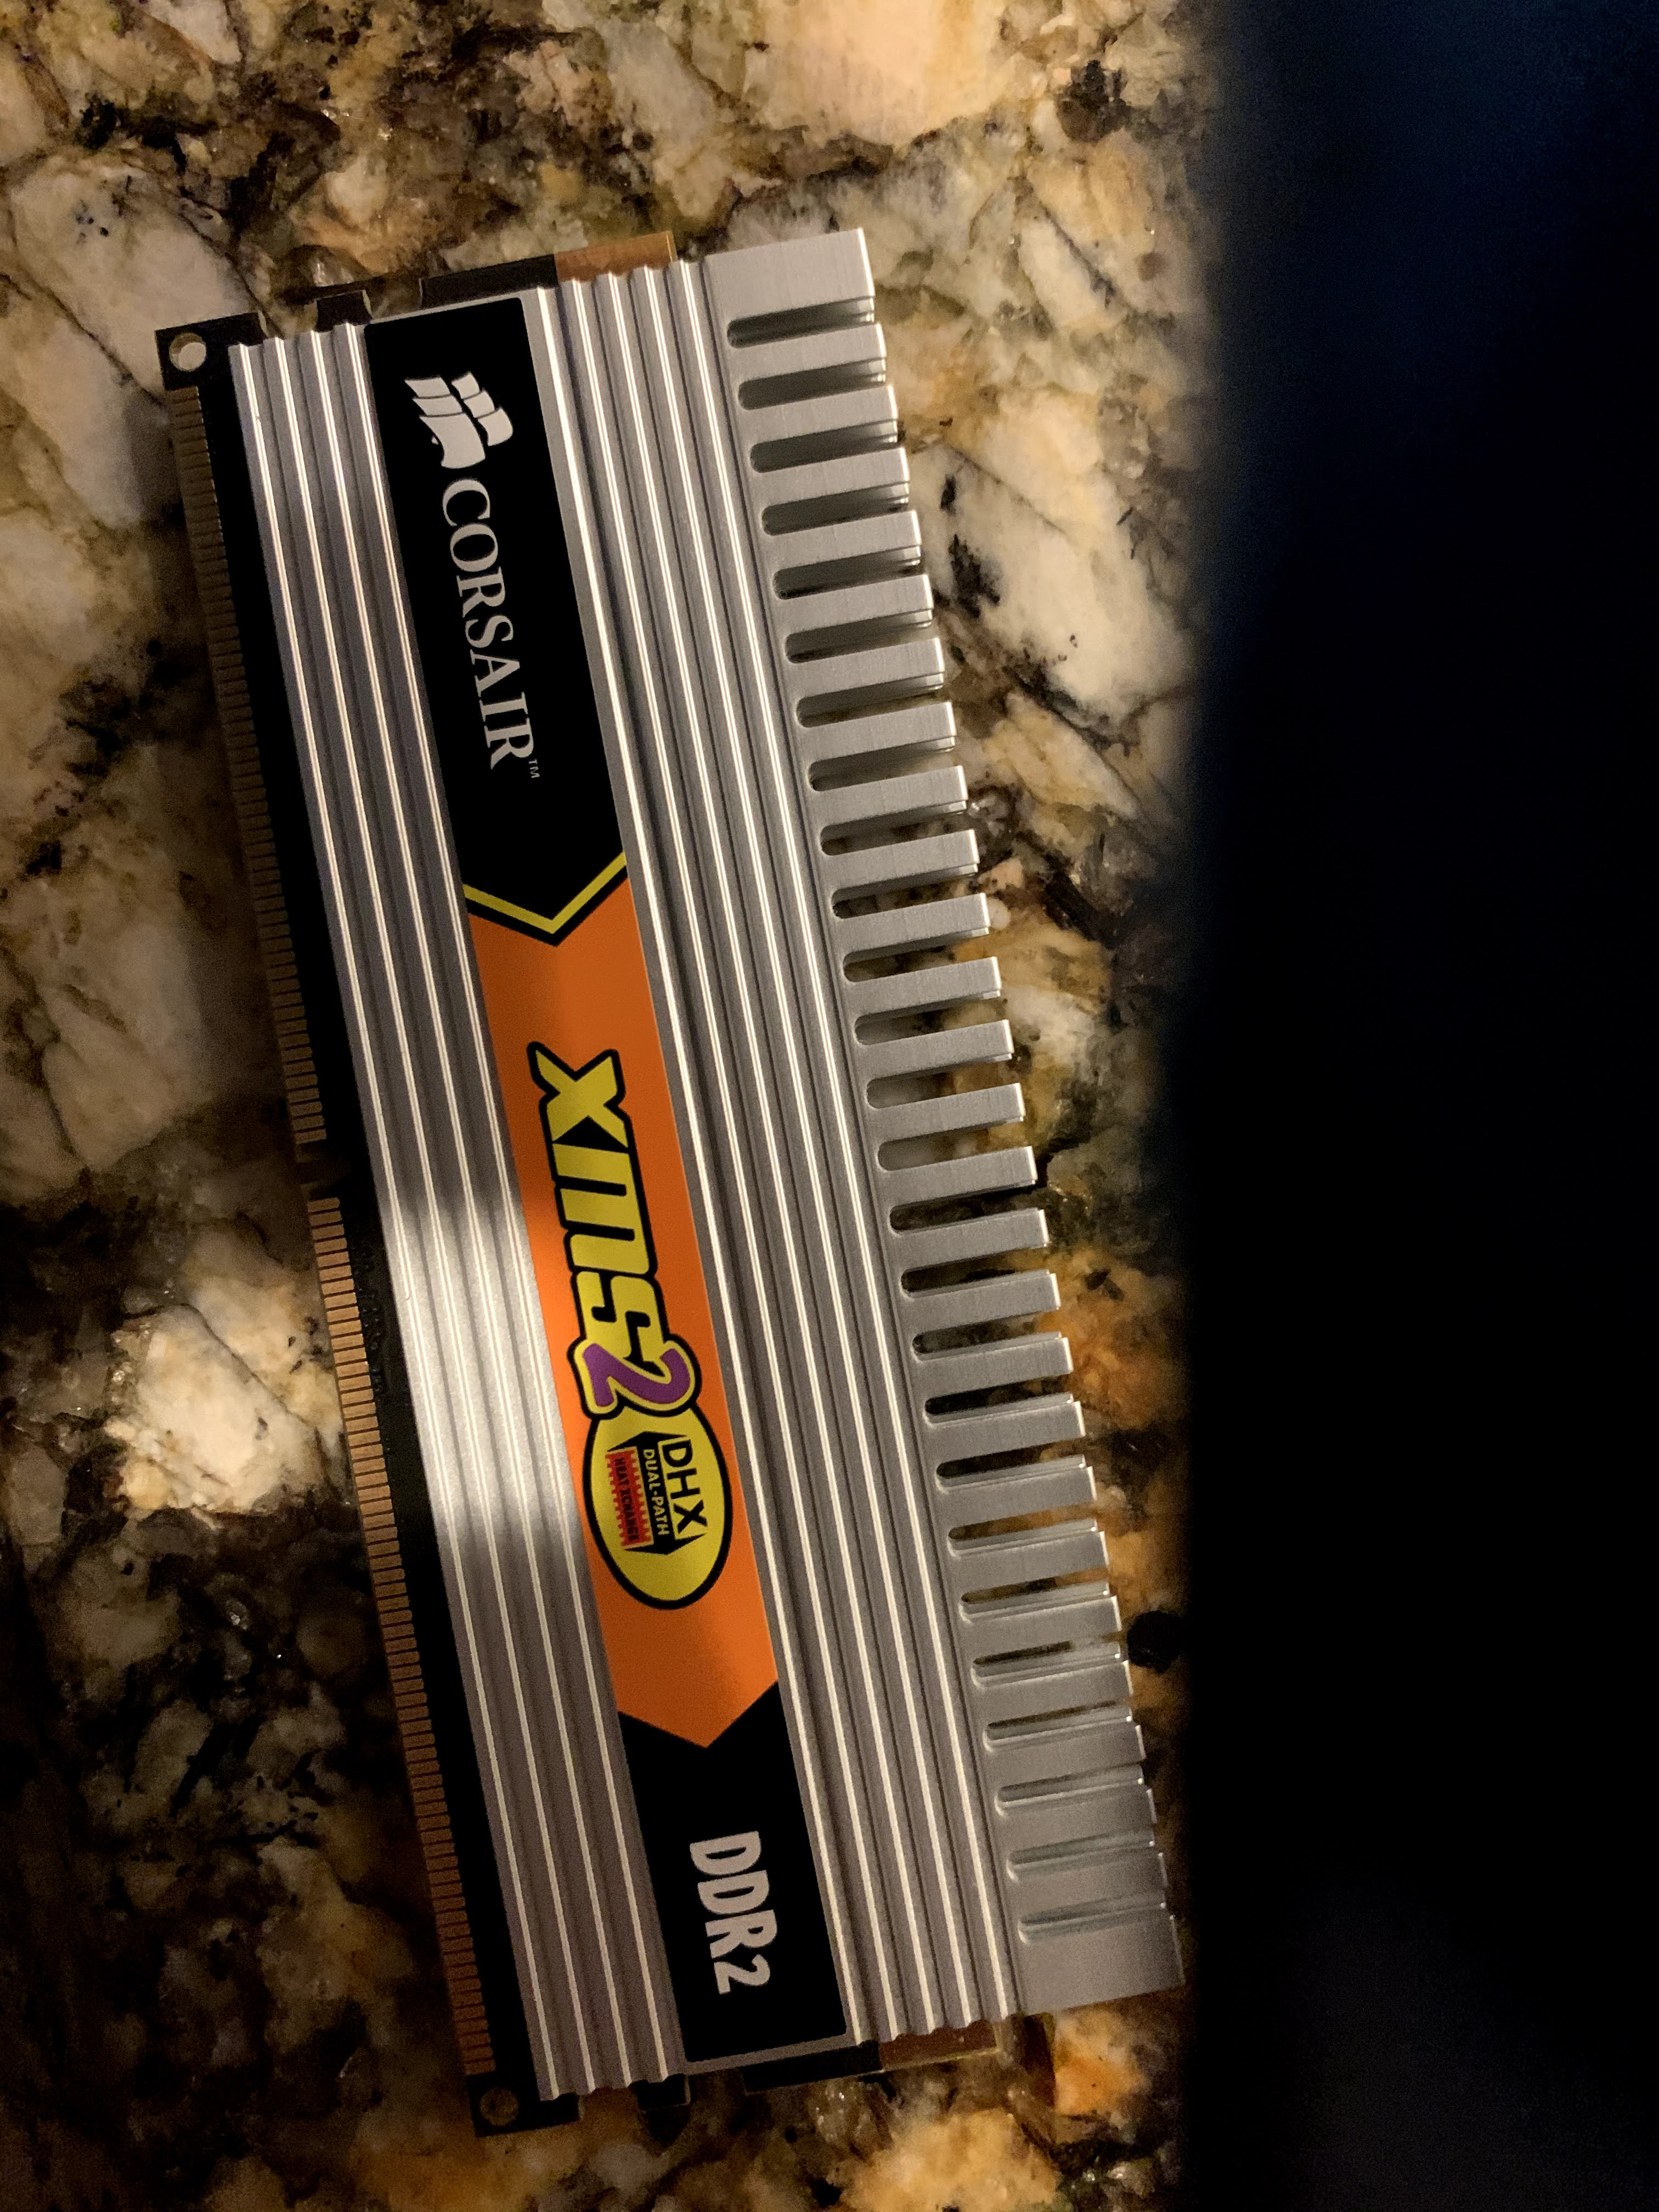Space-debris-medium: (82, 209, 1222, 2127)
